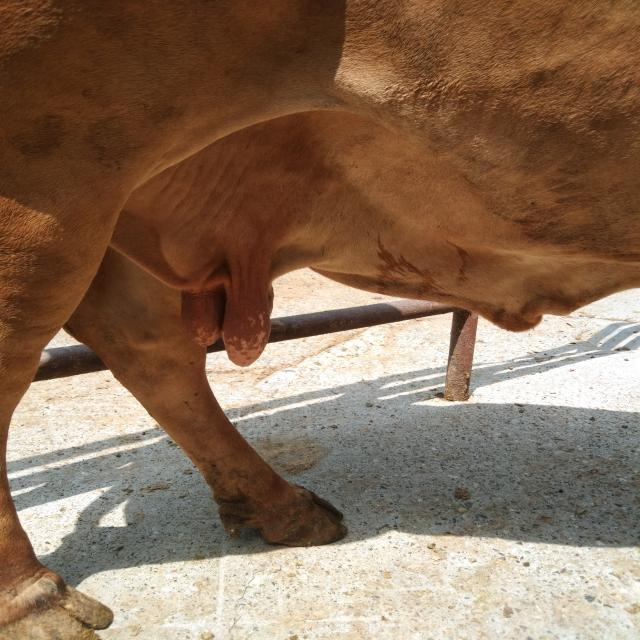Hoof: (217, 482, 348, 548), (0, 567, 114, 639)
